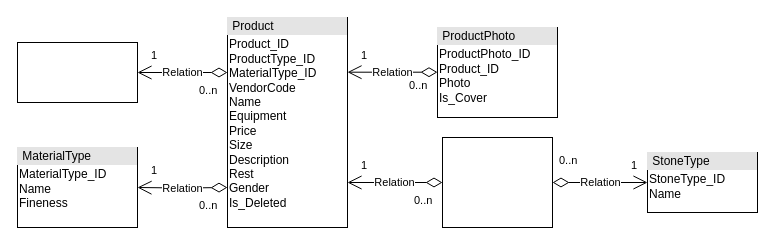
The diagram is 775 pixels wide and 245 high, and some of its shapes have lost their labels. The centre of each missing label's shape, as x and y in pixels:
Insert Insert_ID StoneType_ID Product_ID Weight: (x=497, y=182)
ProductType ProductType_ID Name: (x=77, y=72)
